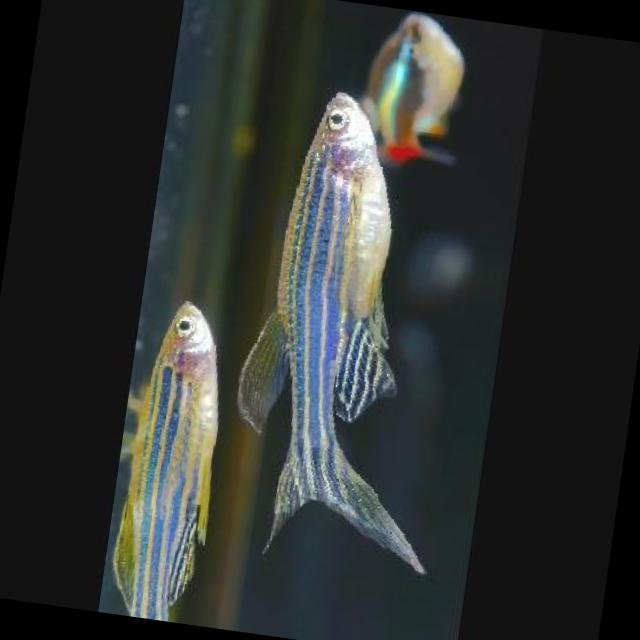ZebraFish: (255, 84, 433, 457), (96, 292, 234, 625)
